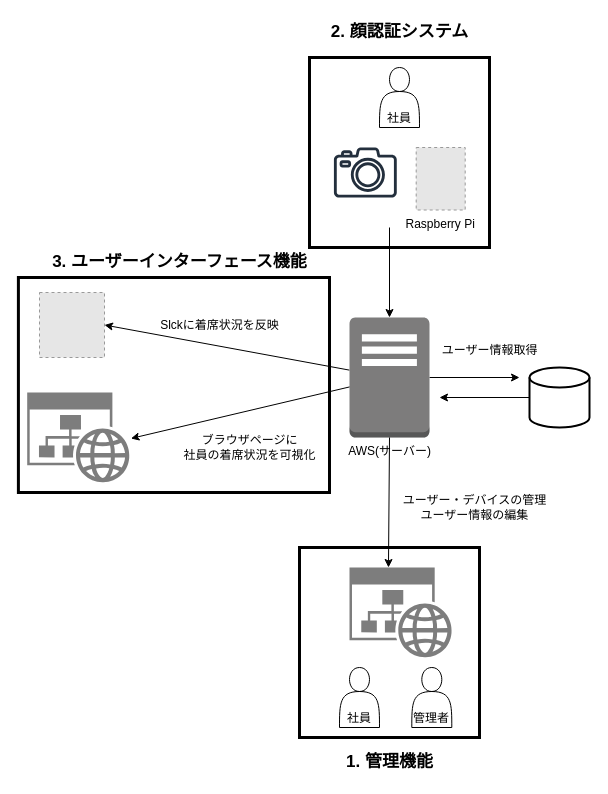
Some shapes in this 608 by 794 pixel diagram are drawn without their labels. Grey dashed boxes stand in for pictures. The shapes that lost their labels are listed below. From the top down, each one's centre as x and y in pixels, then its label:
the point at 364,172: 小型カメラ
the point at 559,397: DB
